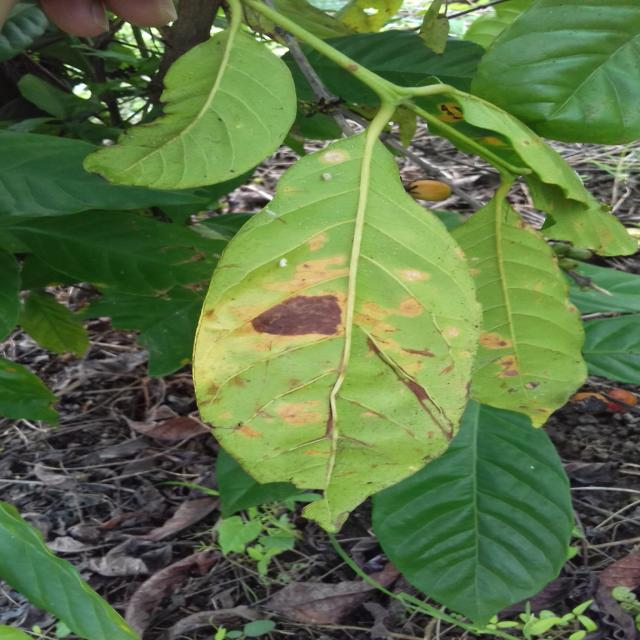Enfermedad-Roya: (193, 124, 481, 534)
